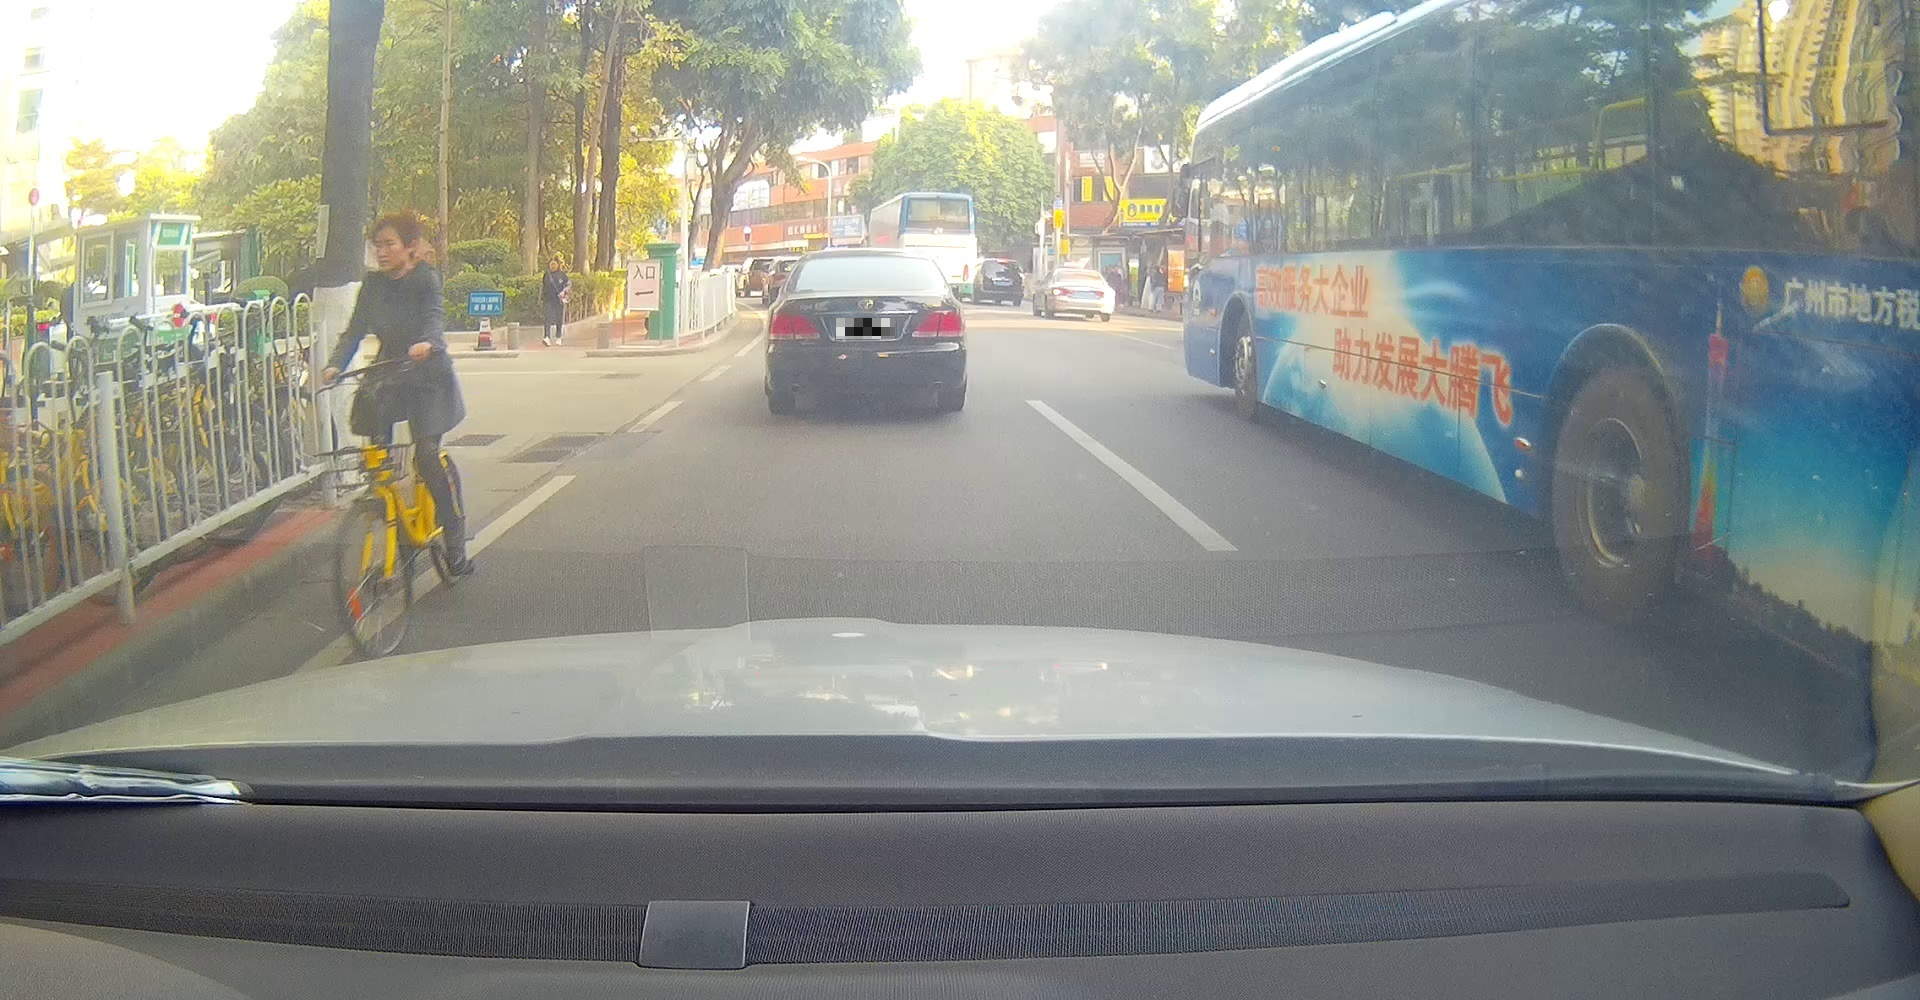L_light: (767, 312, 822, 340), (1051, 287, 1076, 296), (978, 274, 983, 291)
R_light: (910, 310, 965, 338), (1095, 289, 1115, 296), (1020, 274, 1025, 289)
T_light: (850, 286, 879, 289), (997, 260, 1008, 263), (1073, 272, 1084, 274)
day-brake: (1050, 266, 1115, 321)
day-no: (764, 247, 968, 414), (977, 258, 1025, 307)
plate_1: (836, 319, 895, 339)
